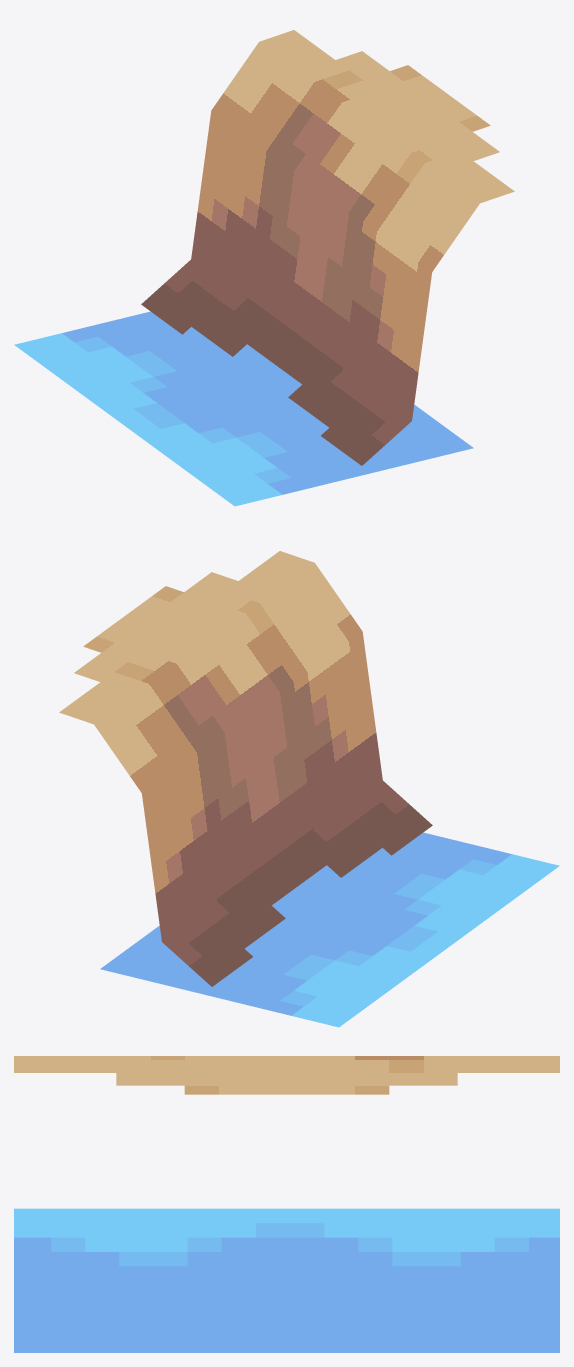
The picture shows the model from 3 angles, top to bottom: view 1: azimuth 30°, elevation 25°; view 2: azimuth 150°, elevation 25°; view 3: azimuth 270°, elevation 25°; orthographic projection. The views are drawn at different scales.
Size of the model in its own units: 0.8496 by 0.627 by 1.
2 materials, 2 textured.
